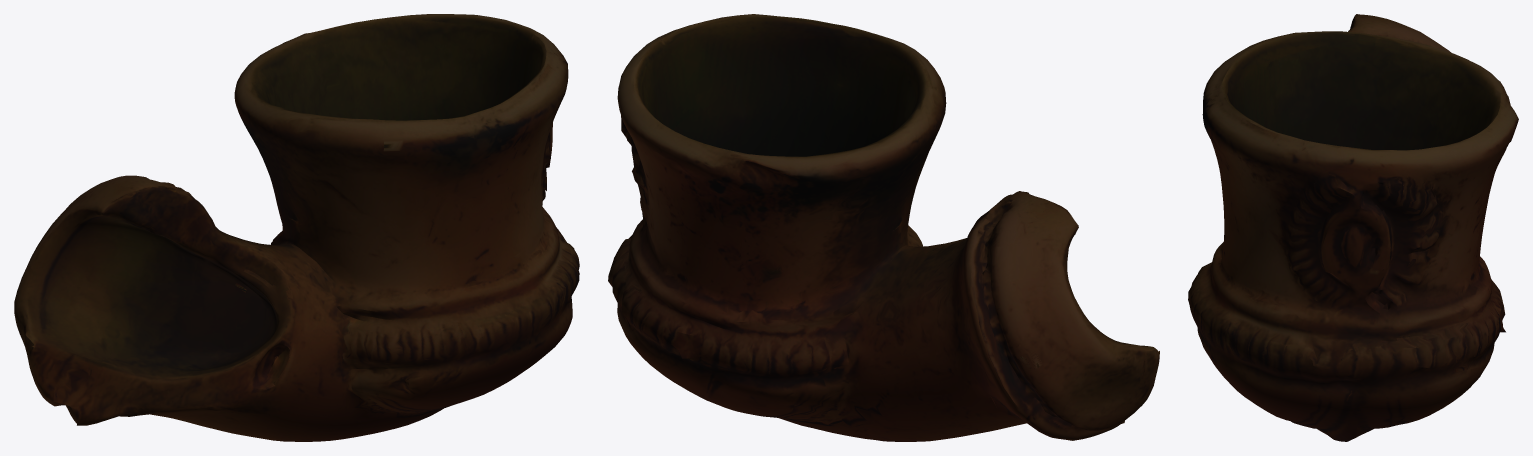
The model's file is 12.smoking_pipe.fbx.
3 views of the same model, side by side, from view 1: azimuth 30°, elevation 25°; view 2: azimuth 150°, elevation 25°; view 3: azimuth 270°, elevation 25° (orthographic).
Visible parts, largest first — view 1: Remesh; view 2: Remesh; view 3: Remesh.
Part boxes in pixels (x1,y1,x2,y2): Remesh: (14, 14, 579, 441); Remesh: (608, 14, 1159, 441); Remesh: (1188, 14, 1518, 441).
Bounding box in the file's own units: 0.9945 × 0.632 × 0.5429.
Materials: 1 (1 with a texture image).
